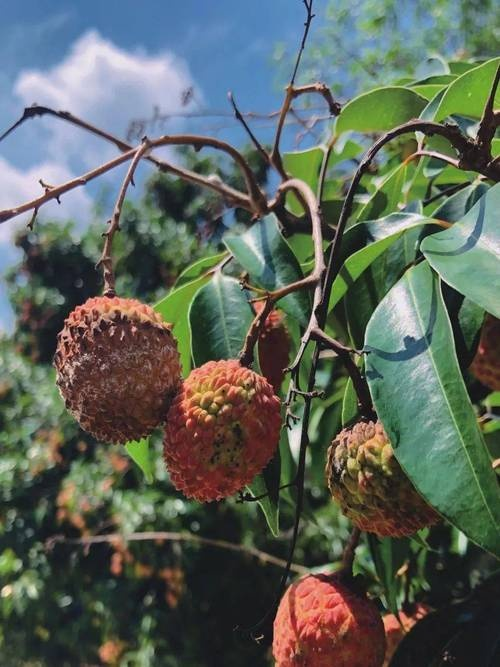Frost_Blight: (54, 288, 172, 450), (185, 357, 298, 484), (332, 411, 423, 542)
